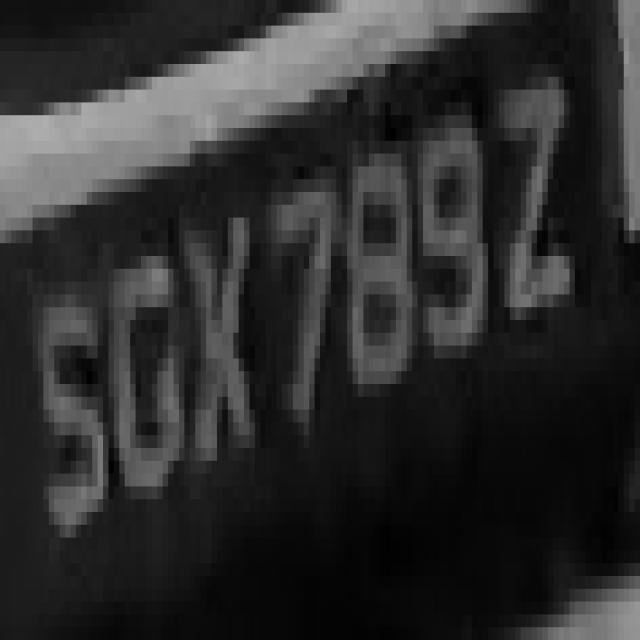7: (255, 141, 336, 461)
8: (320, 141, 423, 422)
9: (407, 90, 499, 371)
G: (103, 205, 184, 512)
S: (27, 256, 103, 576)
X: (179, 179, 255, 499)
Z: (478, 26, 580, 358)
